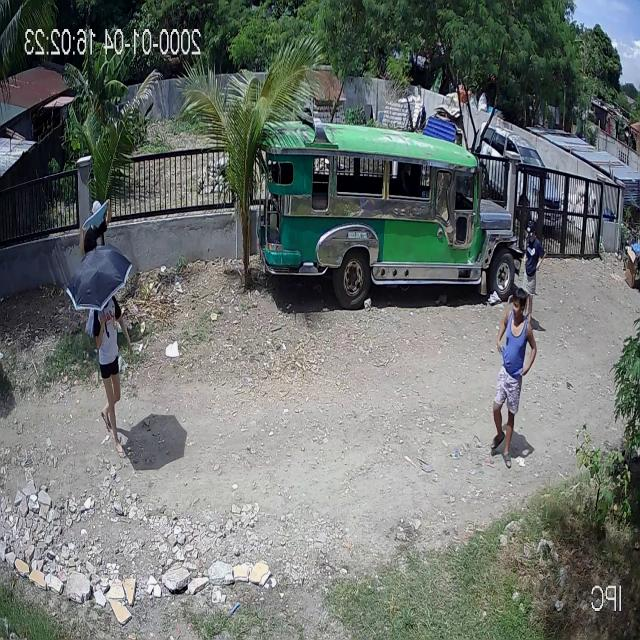standing: (517, 221, 544, 339)
walking: (84, 294, 130, 460), (490, 286, 531, 472), (80, 196, 111, 260)
